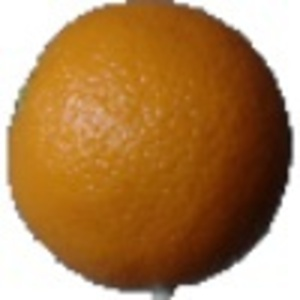laranja: (3, 4, 292, 291)
